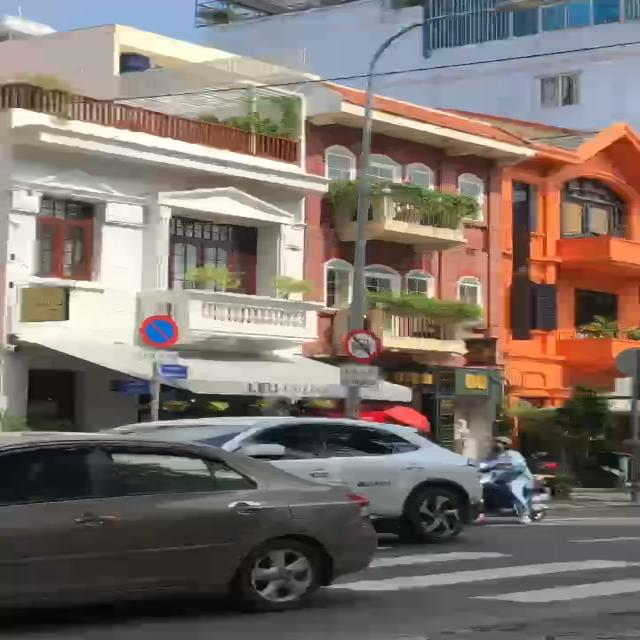Bien bao cam do xe: (130, 313, 186, 350)
Bien bao cam xe oto: (339, 328, 397, 362)
